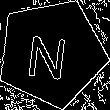N_N: (28, 25, 75, 81)
